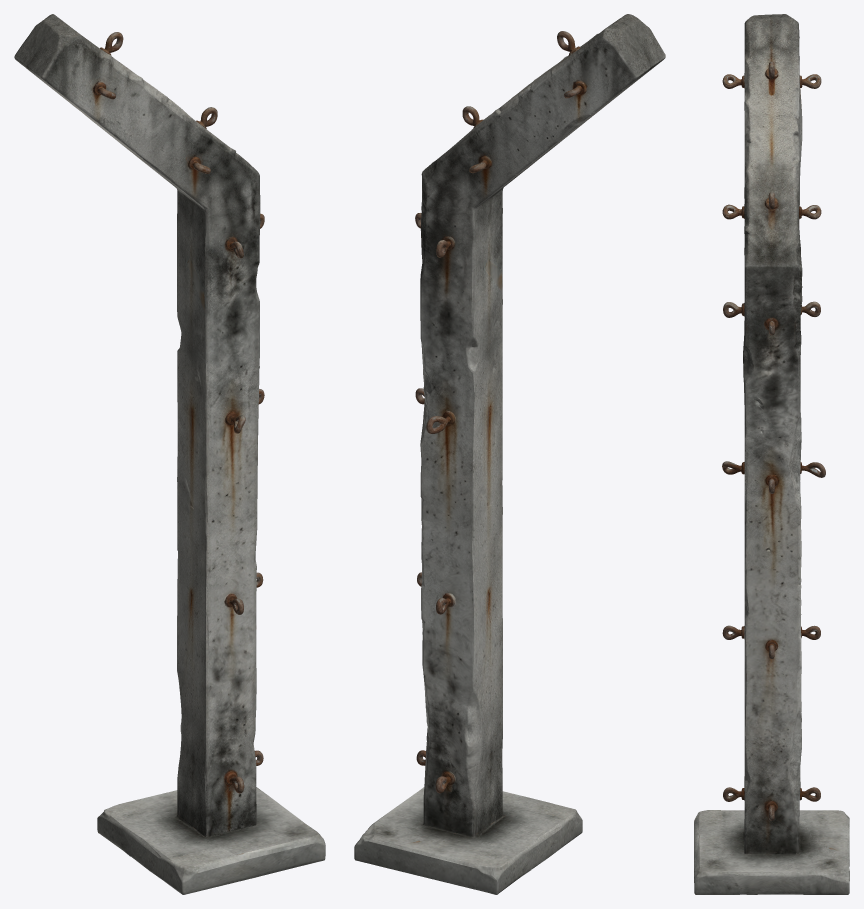
The model's file is sperrzone_fence_post.glb.
3 renders of one model, left to right at view 1: azimuth 30°, elevation 25°; view 2: azimuth 150°, elevation 25°; view 3: azimuth 270°, elevation 25°, orthographic. The views are drawn at different scales.
Bounding box in the file's own units: 0.5906 × 1.9 × 0.3443.
1 material, 1 textured.
